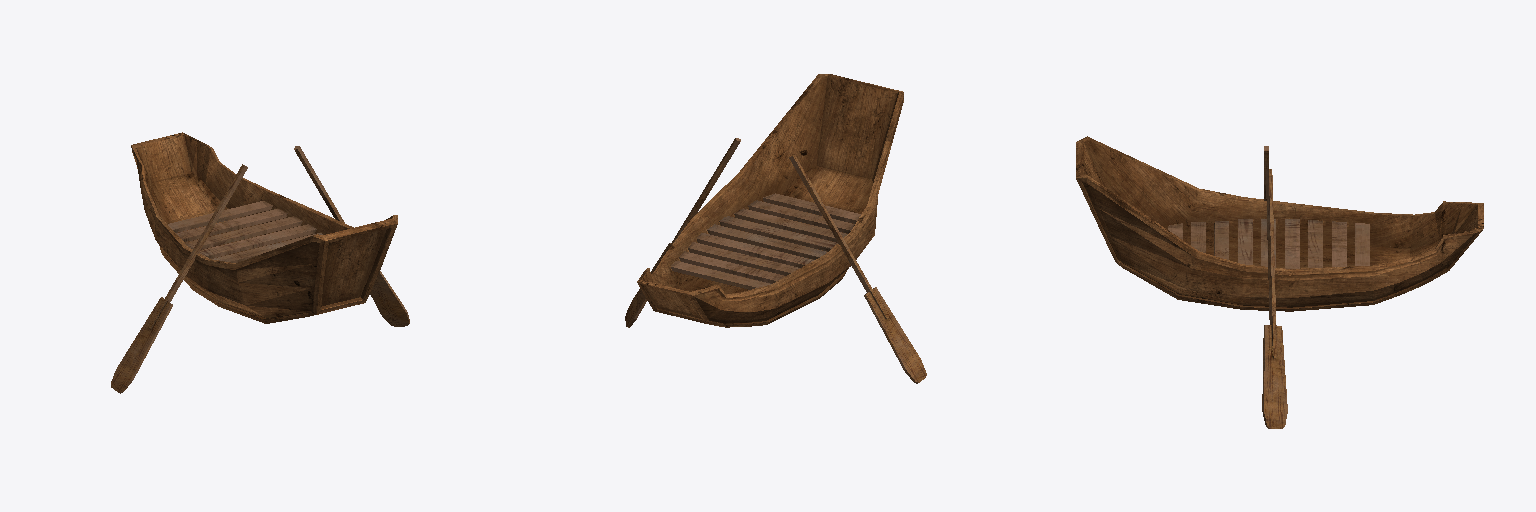
The picture shows the model from 3 angles: view 1: azimuth 30°, elevation 25°; view 2: azimuth 150°, elevation 25°; view 3: azimuth 270°, elevation 25°; orthographic projection.
Visible parts, largest first — view 1: Boat_Mesh.001, L_Row_Mesh.002, R_Row_Mesh; view 2: Boat_Mesh.001, L_Row_Mesh.002, R_Row_Mesh; view 3: Boat_Mesh.001, R_Row_Mesh.
Boxes of the visible parts, box(x1,y1,x2,y2) form: Boat_Mesh.001: box(131, 132, 397, 323); L_Row_Mesh.002: box(111, 164, 247, 393); R_Row_Mesh: box(294, 146, 409, 326); Boat_Mesh.001: box(637, 74, 903, 327); L_Row_Mesh.002: box(789, 155, 926, 383); R_Row_Mesh: box(625, 138, 740, 327); Boat_Mesh.001: box(1076, 136, 1483, 311); R_Row_Mesh: box(1262, 169, 1287, 428).
Bounding box in the file's own units: 0.7884 × 0.5361 × 0.9431.
1 materials, 1 textured.